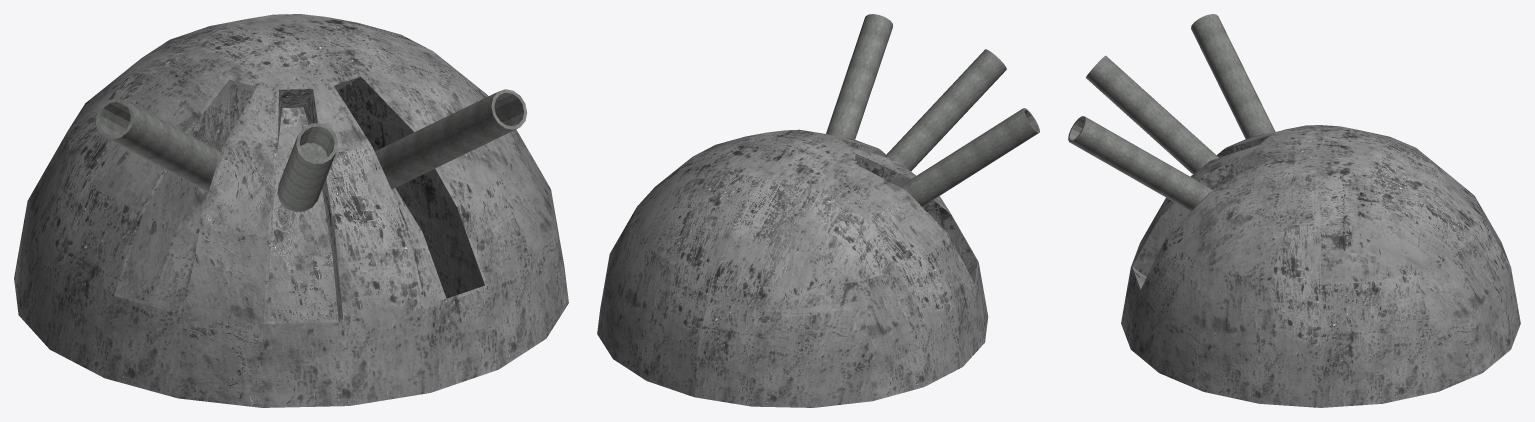
File: Canhao3Pontas_Mapa06.FBX
3 views of the same model, side by side, from view 1: azimuth 30°, elevation 25°; view 2: azimuth 150°, elevation 25°; view 3: azimuth 270°, elevation 25° (orthographic). The views are drawn at different scales.
Parts seen in each view (by area): view 1: Sphere001, Cylinder001, Cylinder003, Cylinder002; view 2: Sphere001, Cylinder002, Cylinder003, Cylinder001; view 3: Sphere001, Cylinder001, Cylinder002, Cylinder003.
Boxes of the visible parts, x1,y1,x2,y2 form: Sphere001: (14, 14, 568, 407); Cylinder001: (374, 89, 526, 189); Cylinder003: (96, 98, 220, 192); Cylinder002: (277, 123, 337, 211); Sphere001: (597, 129, 988, 407); Cylinder002: (885, 49, 1006, 171); Cylinder003: (899, 108, 1039, 206); Cylinder001: (826, 14, 892, 139); Sphere001: (1121, 125, 1520, 407); Cylinder001: (1068, 116, 1213, 211); Cylinder002: (1086, 55, 1218, 174); Cylinder003: (1191, 14, 1275, 138).
Size of the model in its own units: 115 by 66.25 by 123.
